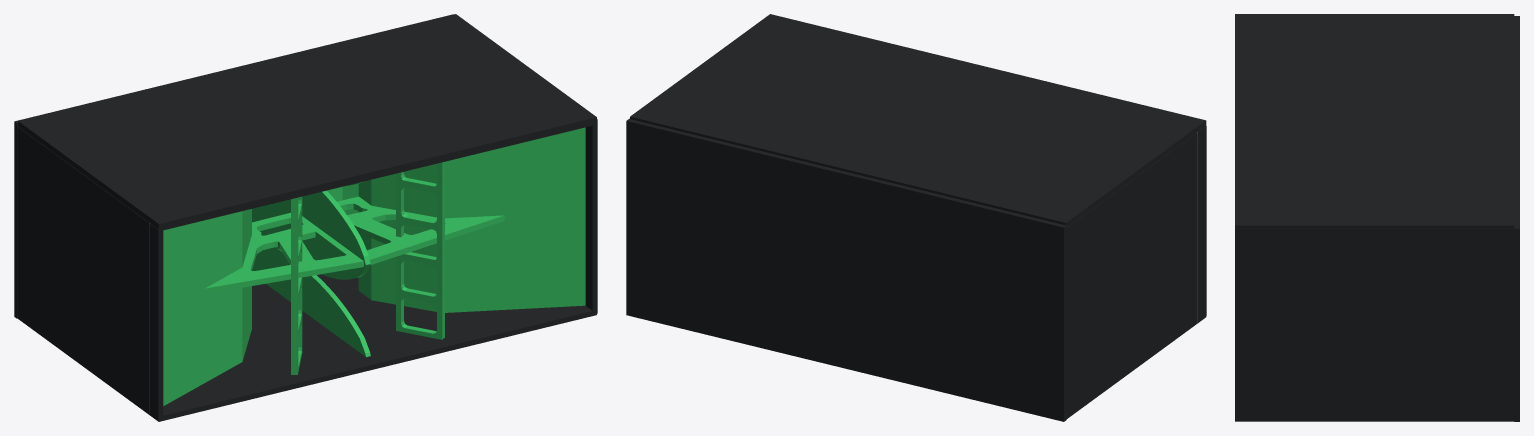
Rendered from clahitam_hijau_tua_semua_dalam.glb.
3 renders of one model, left to right at view 1: azimuth 30°, elevation 25°; view 2: azimuth 150°, elevation 25°; view 3: azimuth 270°, elevation 25°, orthographic.
Visible parts, largest first — view 1: New_Game_Object, New_Game_Object7, New_Game_Object9, New_Game_Object25, New_Game_Object10, New_Game_Object11, New_Game_Object26, New_Game_Object1, New_Game_Object2, New_Game_Object4, New_Game_Object8, New_Game_Object29 (+8 smaller); view 2: New_Game_Object38, New_Game_Object, New_Game_Object7; view 3: New_Game_Object, New_Game_Object8, New_Game_Object38, New_Game_Object29, New_Game_Object25.
Boxes of the visible parts, <box> form: New_Game_Object: <box>18,14,596,228</box>; New_Game_Object7: <box>17,126,163,420</box>; New_Game_Object9: <box>445,127,585,312</box>; New_Game_Object25: <box>18,274,596,421</box>; New_Game_Object10: <box>149,211,242,413</box>; New_Game_Object11: <box>371,163,436,311</box>; New_Game_Object26: <box>205,212,387,293</box>; New_Game_Object1: <box>315,196,504,265</box>; New_Game_Object2: <box>255,190,370,279</box>; New_Game_Object4: <box>277,248,370,357</box>; New_Game_Object8: <box>585,124,597,313</box>; New_Game_Object29: <box>18,119,597,230</box>; New_Game_Object38: <box>626,119,1066,421</box>; New_Game_Object: <box>630,14,1206,226</box>; New_Game_Object7: <box>1066,126,1206,417</box>; New_Game_Object: <box>1235,14,1514,227</box>; New_Game_Object8: <box>1235,231,1514,420</box>; New_Game_Object38: <box>1514,16,1519,421</box>; New_Game_Object29: <box>1235,228,1514,231</box>; New_Game_Object25: <box>1235,420,1514,421</box>.
Size of the model in its own units: 3.17 by 1.37 by 1.8.
